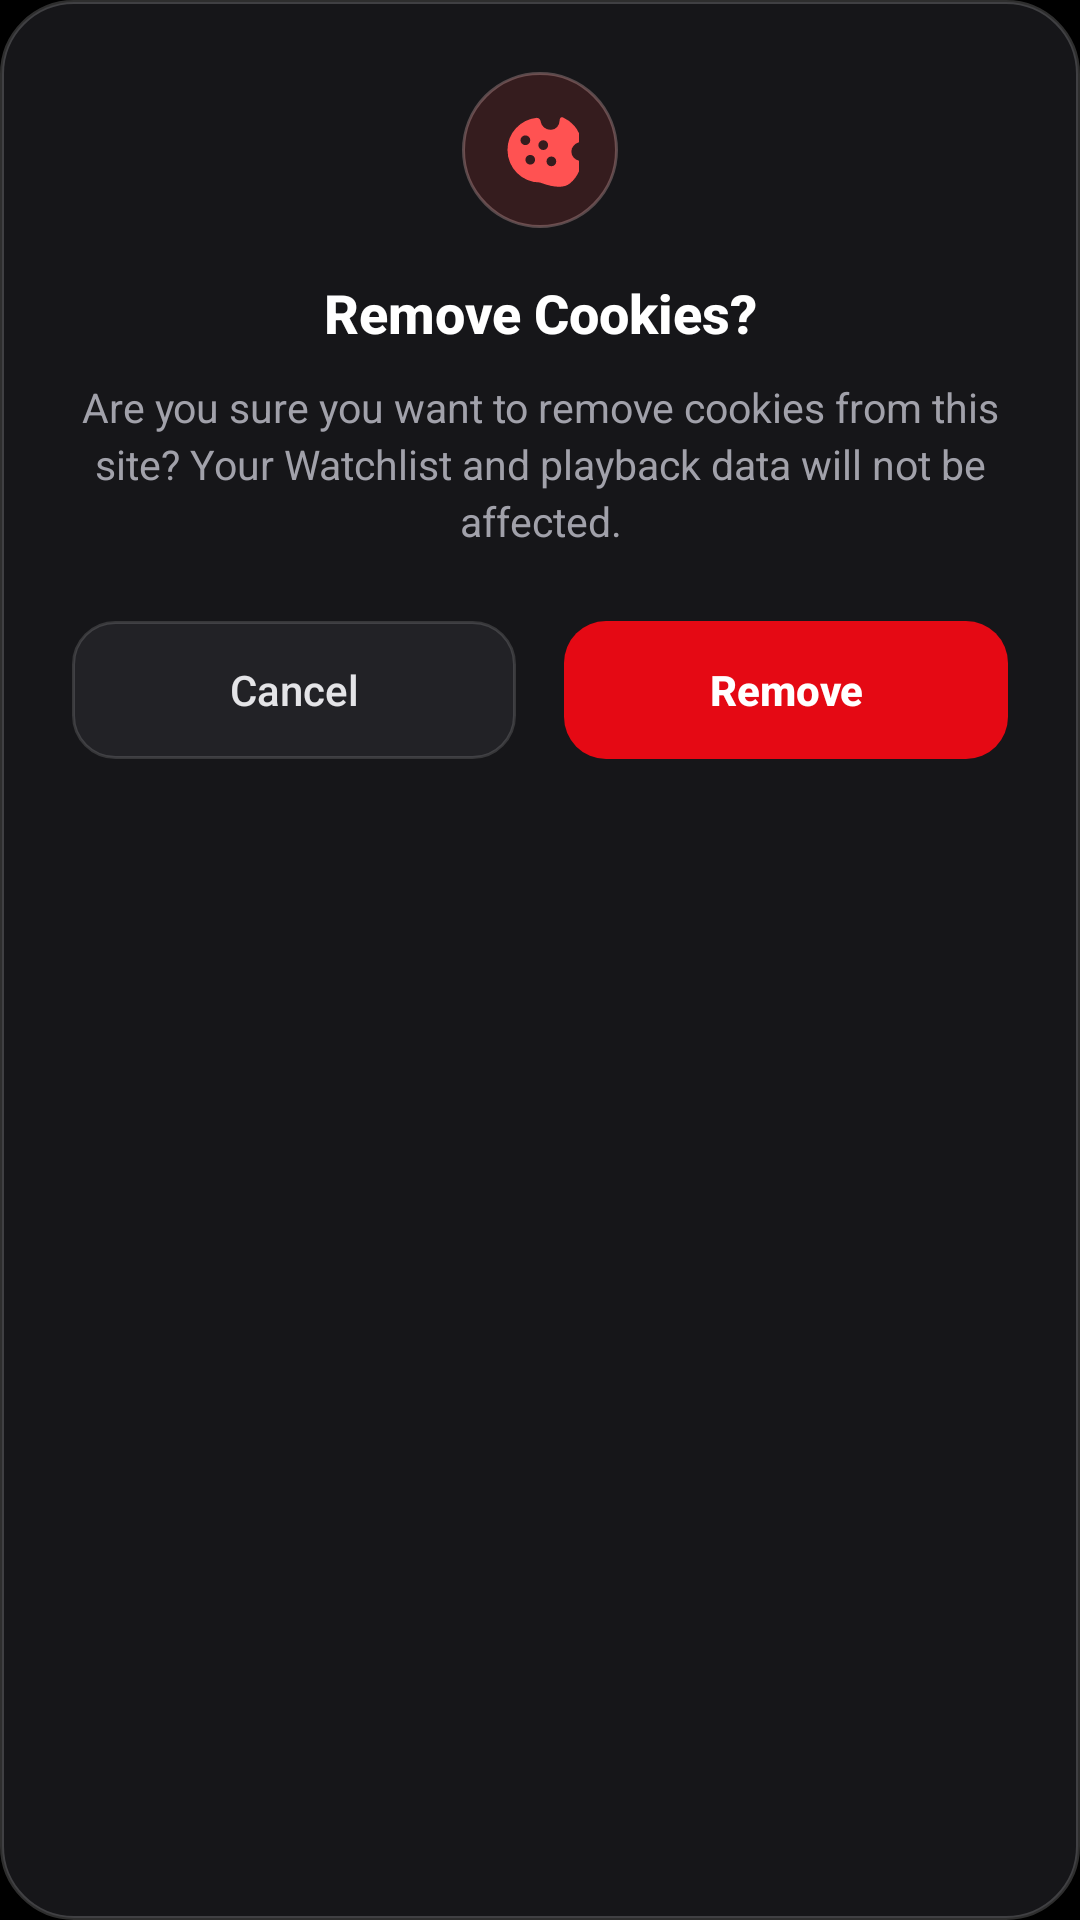

Icons on this 1080 × 1920 Android screen, each with the point to tap as (x,y):
Cookie Icon: (543,152)
